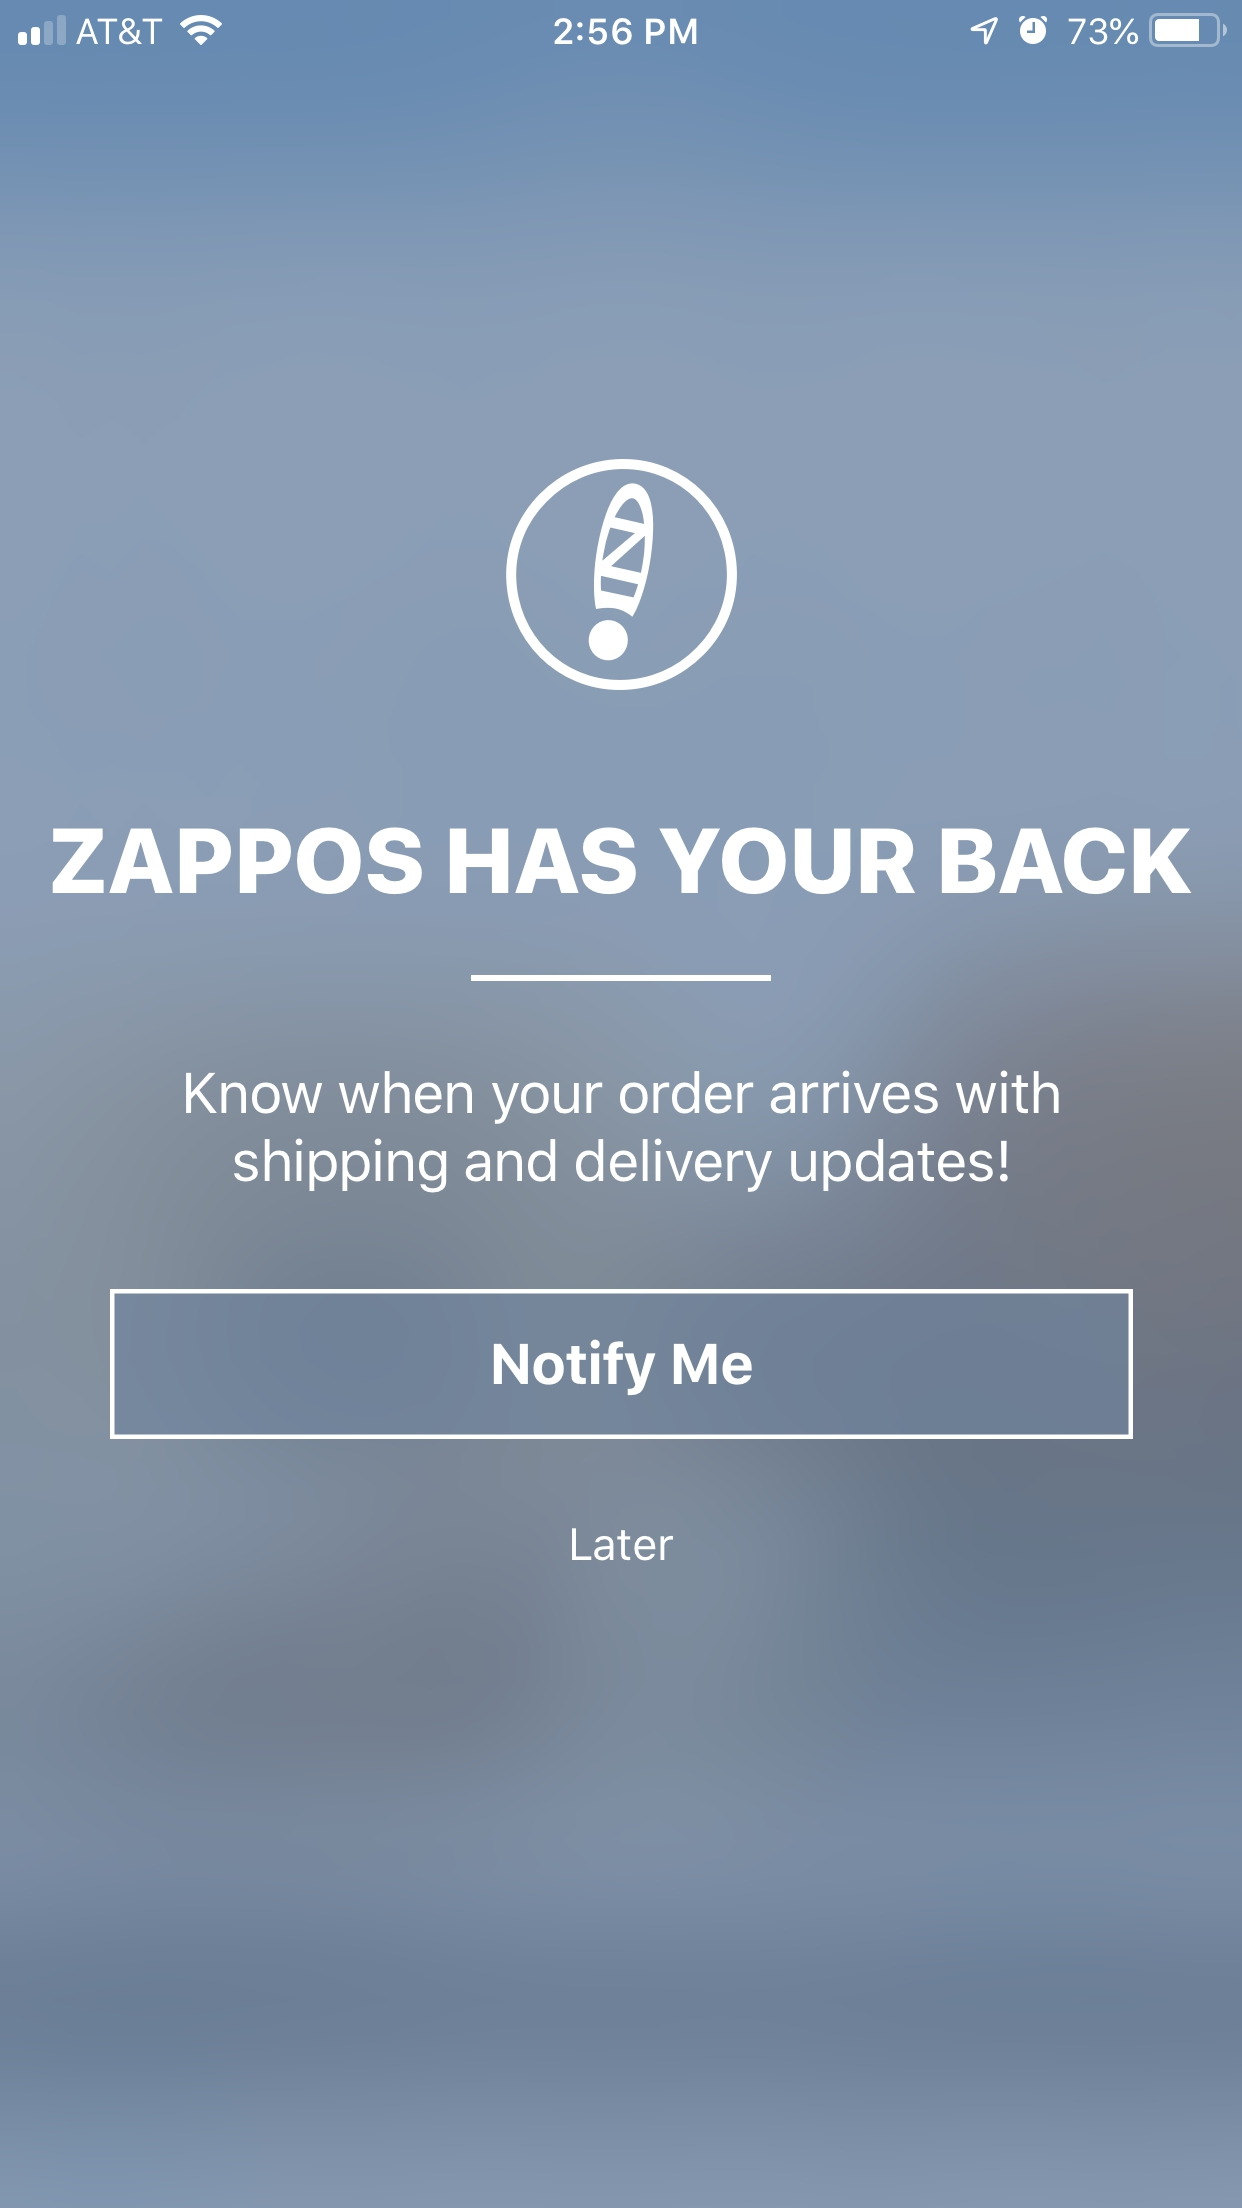Image: (505, 459, 739, 692)
Text: (187, 1069, 1060, 1193), (52, 826, 1192, 896), (572, 1527, 673, 1562)
TextButton: (111, 1289, 1134, 1441)
UpperTaskBar: (2, 2, 1242, 49)
